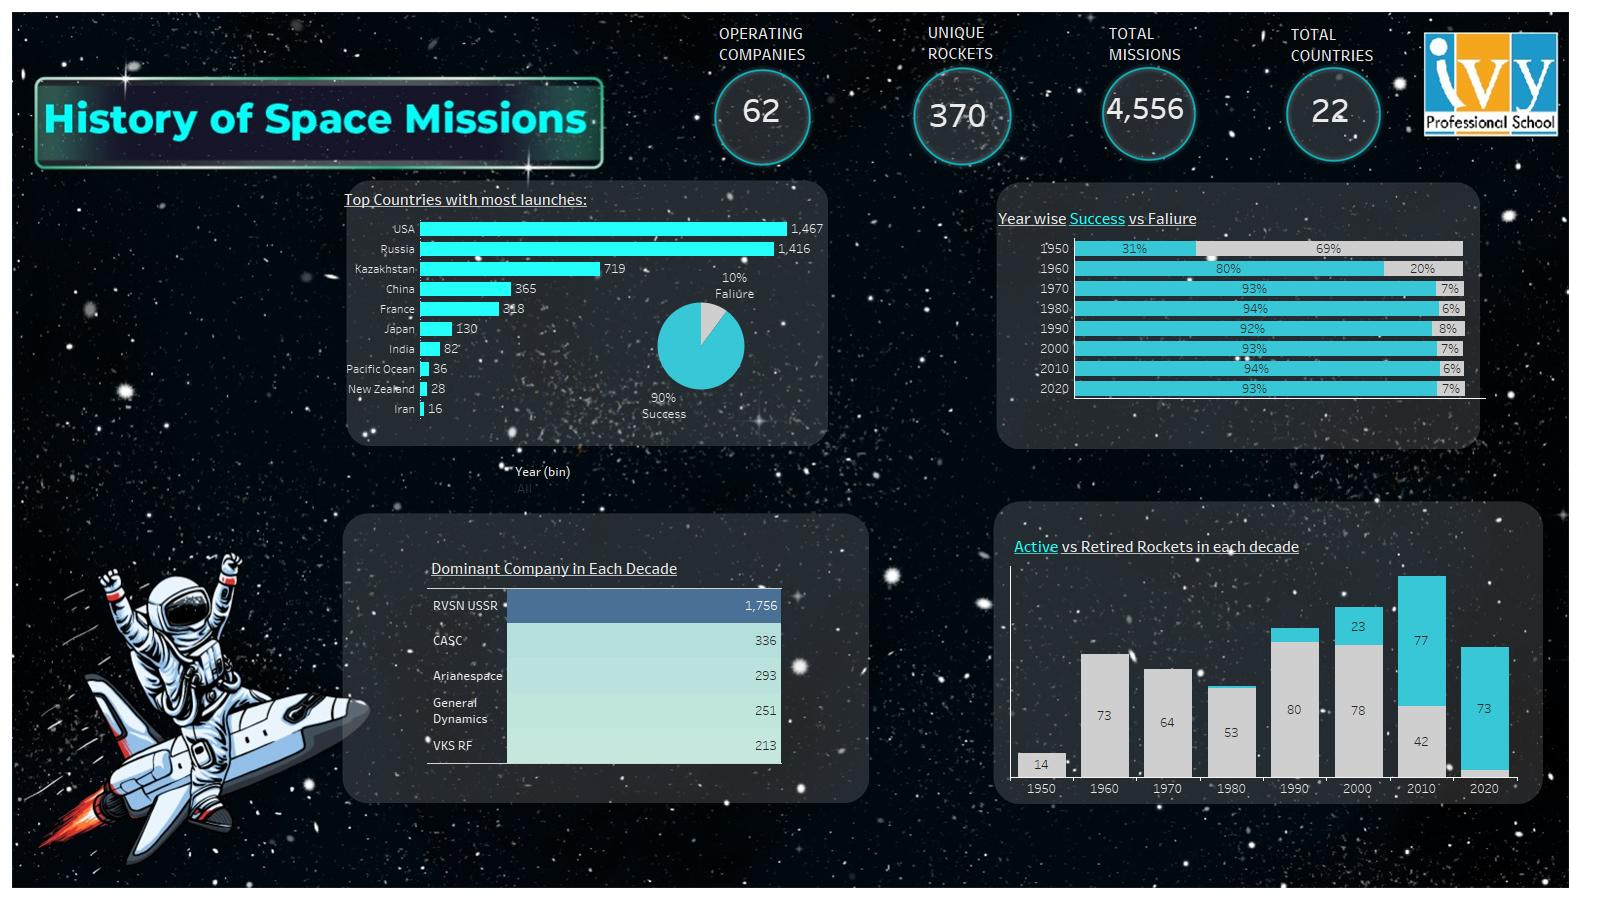

The page's visual inventory and layout, read from the dashboard file:
{"tool":"tableau","page":{"name":"Dashboard 1","canvas":[1600,900],"ordinal":0},"visuals":[{"type":"image","param":"C:/Users/admin/Desktop/TABLEAU/space misson/Space Mission Backdrop.jpeg","box":[8,8,1584,884]},{"type":"text","box":[925,22,100,42]},{"type":"text","box":[713,23,100,42]},{"type":"text","box":[1106,23,100,42]},{"type":"text","box":[1288,23,136,44]},{"type":"image","param":"C:/Users/admin/Desktop/TABLEAU/space misson/Circle.png","box":[906,60,134,112]},{"type":"image","param":"C:/Users/admin/Desktop/TABLEAU/space misson/Circle.png","box":[1095,60,131,107]},{"type":"image","param":"C:/Users/admin/Desktop/TABLEAU/space misson/Circle.png","box":[1279,60,131,108]},{"type":"image","param":"C:/Users/admin/Desktop/TABLEAU/space misson/Circle.png","box":[707,62,145,110]},{"type":"image","param":"C:/Users/admin/Desktop/TABLEAU/New folder/Circle.png","box":[666,64,126,126]},{"type":"worksheet","title":"operating companies","mark":"Automatic","box":[725,88,81,53]},{"type":"worksheet","title":"total missions","mark":"Automatic","box":[1089,88,123,70]},{"type":"worksheet","title":"total countries","mark":"Automatic","box":[1294,88,103,51]},{"type":"worksheet","title":"unique rockets","mark":"Automatic","box":[911,93,102,51]},{"type":"image","param":"C:/Users/admin/Desktop/TABLEAU/space misson/box.png","box":[346,180,728,266]},{"type":"image","param":"C:/Users/admin/Desktop/TABLEAU/space misson/box.png","box":[996,182,558,267]},{"type":"worksheet","title":"country","mark":"Automatic","rows":["Location - Split 1"],"cols":["Location - Split 1"],"box":[340,183,506,256]},{"type":"worksheet","title":"success vs faliure","mark":"Automatic","rows":["Year (bin)"],"box":[994,202,491,235]},{"type":"worksheet","title":"success rate","mark":"Pie","box":[621,266,162,193]},{"type":"filter","title":"dominant company ","param":"[federated.12iyyh11t9johr1de0api1pz5s8i].[none:Year (bin):ok]","box":[515,462,160,44]},{"type":"image","param":"C:/Users/admin/Desktop/TABLEAU/space misson/box.png","box":[993,501,550,330]},{"type":"image","param":"C:/Users/admin/Desktop/TABLEAU/space misson/box.png","box":[342,513,527,298]},{"type":"worksheet","title":"active vs retired","mark":"Automatic","rows":["Rocket"],"cols":["Year (bin)"],"box":[1010,530,507,268]},{"type":"worksheet","title":"dominant company ","mark":"Square","rows":["Company"],"box":[427,552,403,227]}]}

Visuals, with their boxes in screenshot pixels (x1, y1, x2, y2), scaled from the page's 1600x900 canvas onto the 1600x900 screenshot:
image: [8,8,1592,892]
text: [925,22,1025,64]
text: [713,23,813,65]
text: [1106,23,1206,65]
text: [1288,23,1424,67]
image: [906,60,1040,172]
image: [1095,60,1226,167]
image: [1279,60,1410,168]
image: [707,62,852,172]
image: [666,64,792,190]
"operating companies" worksheet: [725,88,806,141]
"total missions" worksheet: [1089,88,1212,158]
"total countries" worksheet: [1294,88,1397,139]
"unique rockets" worksheet: [911,93,1013,144]
image: [346,180,1074,446]
image: [996,182,1554,449]
"country" worksheet: [340,183,846,439]
"success vs faliure" worksheet: [994,202,1485,437]
"success rate" worksheet (Pie marks): [621,266,783,459]
"dominant company " filter: [515,462,675,506]
image: [993,501,1543,831]
image: [342,513,869,811]
"active vs retired" worksheet: [1010,530,1517,798]
"dominant company " worksheet (Square marks): [427,552,830,779]
